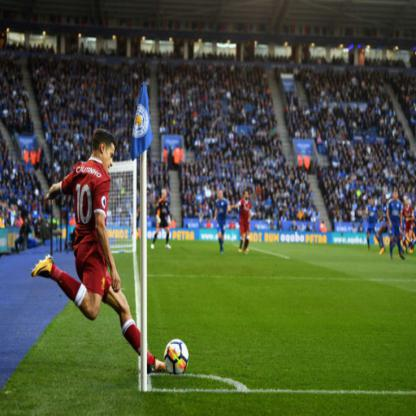corner kick: (62, 74, 249, 407)
